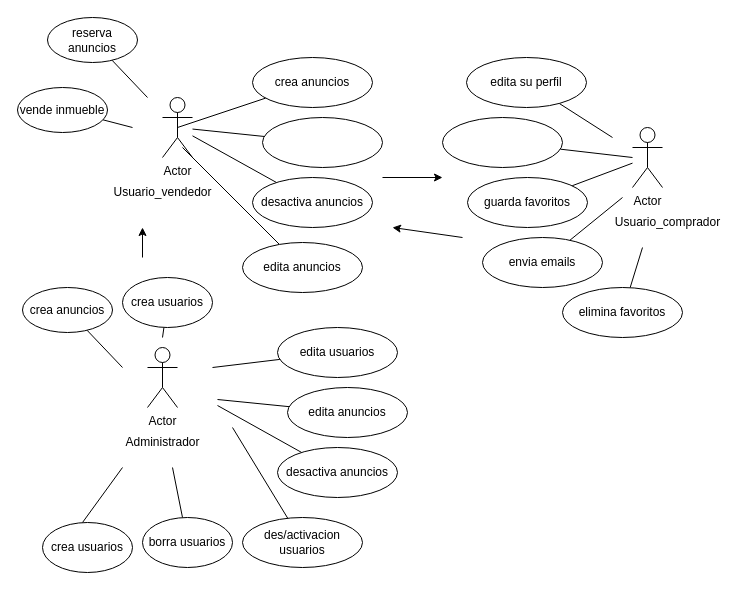
The diagram is 750 pixels wide and 590 high, and some of its shapes have lost their labels. The shapes that lost their labels are listed below. From the top down, each one's box as (x1, y1, x2, y2) in pixels, then its label:
(262, 116, 382, 168): guarda anuncios
(442, 116, 562, 168): mira anuncios
